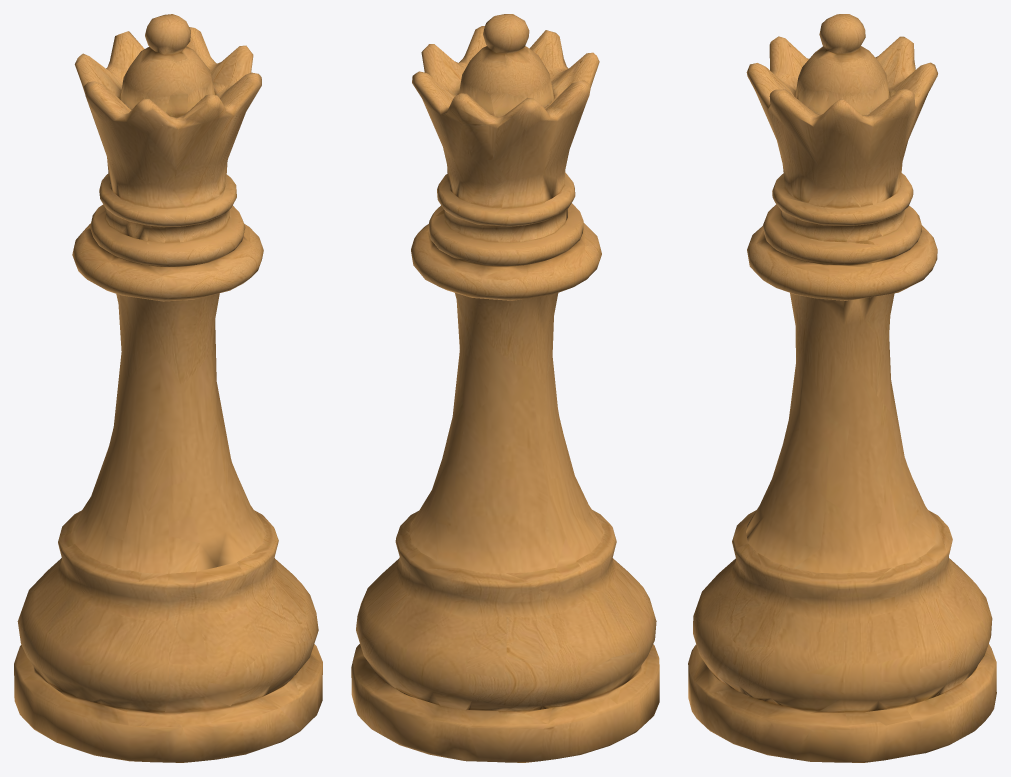
Rendered from reina.obj.
3 renders of one model, left to right at view 1: azimuth 30°, elevation 25°; view 2: azimuth 150°, elevation 25°; view 3: azimuth 270°, elevation 25°, orthographic.
Visible parts, largest first — view 1: Meshy_AI_staunton_chess_queen__0926011923_image-to-3d-texture; view 2: Meshy_AI_staunton_chess_queen__0926011923_image-to-3d-texture; view 3: Meshy_AI_staunton_chess_queen__0926011923_image-to-3d-texture.
Boxes of the visible parts, x1,y1,x2,y2 form: Meshy_AI_staunton_chess_queen__0926011923_image-to-3d-texture: (14, 14, 322, 762); Meshy_AI_staunton_chess_queen__0926011923_image-to-3d-texture: (351, 14, 659, 762); Meshy_AI_staunton_chess_queen__0926011923_image-to-3d-texture: (688, 14, 996, 762).
Size of the model in its own units: 0.043 by 0.105 by 0.0429.
1 material, 1 textured.
